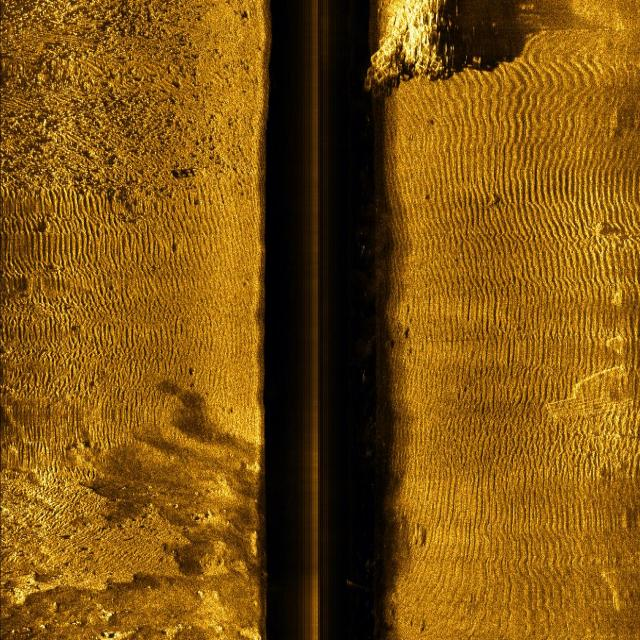artificial reef: (368, 6, 466, 97)
